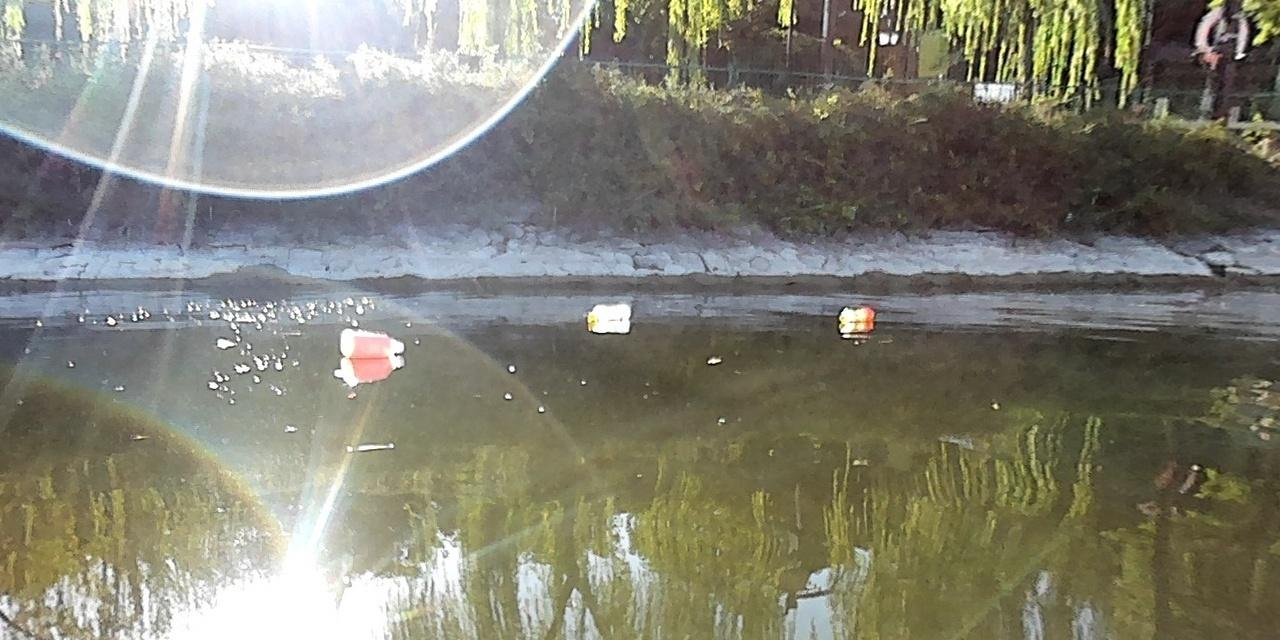bottle: (338, 324, 403, 358), (583, 300, 633, 323), (834, 304, 876, 324)
